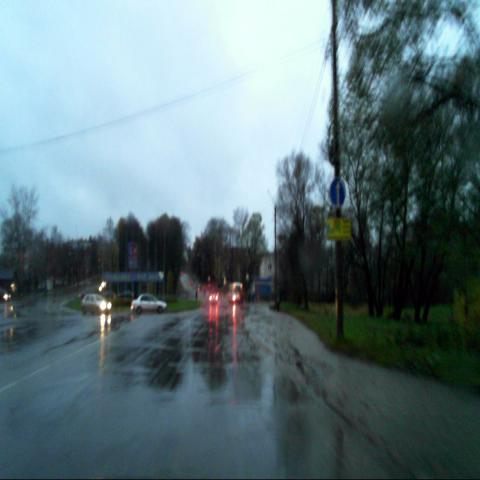4_1_1: (330, 178, 346, 208)
